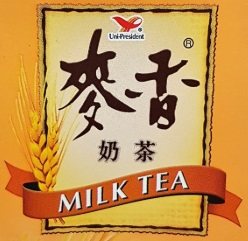milk tea: (1, 2, 246, 239)
